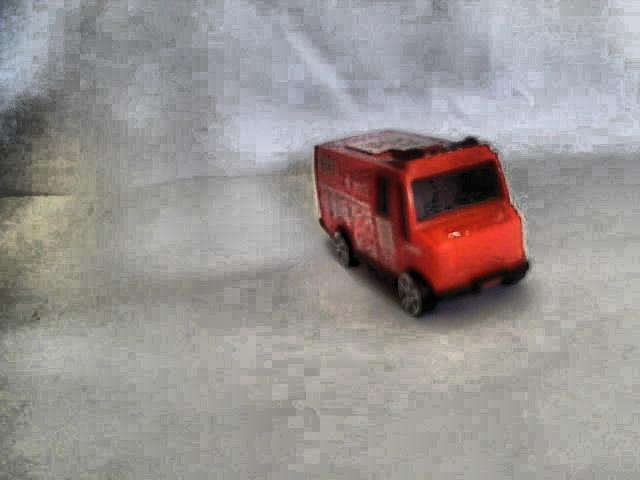fire_truck: (304, 140, 534, 317)
